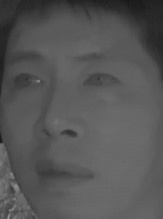eye: (81, 69, 124, 92), (11, 69, 46, 93)
mouth: (32, 153, 94, 191)
